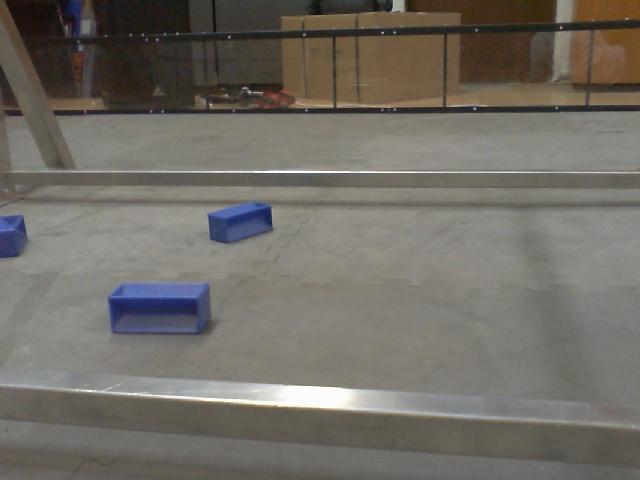BlueSample: (104, 279, 216, 339), (206, 198, 275, 245), (1, 211, 34, 258)
